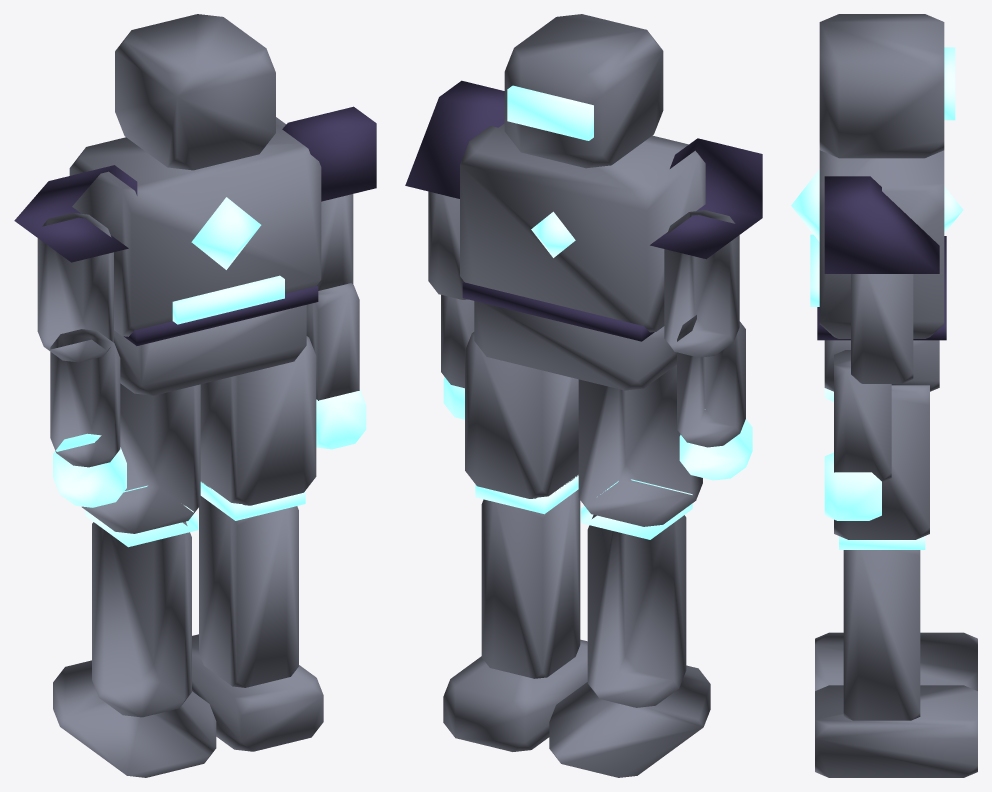
Rendered from CHR_Runner_Default.glb.
3 renders of one model, left to right at view 1: azimuth 30°, elevation 25°; view 2: azimuth 150°, elevation 25°; view 3: azimuth 270°, elevation 25°, orthographic. The views are drawn at different scales.
Visible parts, largest first — view 1: chest, head, CHR_Runner_Default_p3, CHR_Runner_Default_p2, CHR_Runner_Default_p4, CHR_Runner_Default_p5, CHR_Runner_Default_p1, pelvis, CHR_Runner_Default_p0, CHR_Runner_Default_p19, CHR_Runner_Default_p17, CHR_Runner_Default_p14 (+10 smaller); view 2: chest, head, CHR_Runner_Default_p3, CHR_Runner_Default_p2, CHR_Runner_Default_p5, CHR_Runner_Default_p4, CHR_Runner_Default_p1, pelvis, CHR_Runner_Default_p0, CHR_Runner_Default_p17, CHR_Runner_Default_p15, CHR_Runner_Default_p19 (+10 smaller); view 3: head, CHR_Runner_Default_p2, CHR_Runner_Default_p0, chest, CHR_Runner_Default_p14, CHR_Runner_Default_p4, CHR_Runner_Default_p16, CHR_Runner_Default_p18, CHR_Runner_Default_p1, CHR_Runner_Default_p20, pelvis, back_core (+5 smaller).
Part boxes in pixels (left/top/right/bottom): chest: left=69, top=117, right=321, bottom=336; head: left=115, top=14, right=275, bottom=170; CHR_Runner_Default_p3: left=92, top=521, right=191, bottom=717; CHR_Runner_Default_p2: left=199, top=496, right=298, bottom=687; CHR_Runner_Default_p4: left=200, top=336, right=316, bottom=505; CHR_Runner_Default_p5: left=82, top=383, right=200, bottom=533; CHR_Runner_Default_p1: left=53, top=660, right=216, bottom=777; pelvis: left=114, top=305, right=306, bottom=395; CHR_Runner_Default_p0: left=192, top=634, right=323, bottom=751; CHR_Runner_Default_p19: left=50, top=329, right=120, bottom=467; CHR_Runner_Default_p17: left=37, top=213, right=113, bottom=362; CHR_Runner_Default_p14: left=282, top=106, right=376, bottom=201; chest: left=460, top=123, right=705, bottom=332; head: left=504, top=14, right=663, bottom=168; CHR_Runner_Default_p3: left=587, top=515, right=686, bottom=707; CHR_Runner_Default_p2: left=481, top=489, right=580, bottom=678; CHR_Runner_Default_p5: left=578, top=365, right=702, bottom=526; CHR_Runner_Default_p4: left=465, top=332, right=578, bottom=498; CHR_Runner_Default_p1: left=549, top=665, right=710, bottom=777; pelvis: left=474, top=301, right=676, bottom=390; CHR_Runner_Default_p0: left=443, top=639, right=587, bottom=751; CHR_Runner_Default_p17: left=664, top=210, right=739, bottom=357; CHR_Runner_Default_p15: left=650, top=138, right=762, bottom=259; CHR_Runner_Default_p19: left=677, top=315, right=745, bottom=447; head: left=819, top=14, right=944, bottom=158; CHR_Runner_Default_p2: left=843, top=550, right=920, bottom=720; CHR_Runner_Default_p0: left=815, top=685, right=977, bottom=777; chest: left=819, top=150, right=944, bottom=338; CHR_Runner_Default_p14: left=824, top=176, right=939, bottom=273; CHR_Runner_Default_p4: left=834, top=385, right=929, bottom=539; CHR_Runner_Default_p16: left=851, top=274, right=913, bottom=383; CHR_Runner_Default_p18: left=834, top=350, right=891, bottom=481; CHR_Runner_Default_p1: left=815, top=632, right=977, bottom=690; CHR_Runner_Default_p20: left=824, top=452, right=881, bottom=520; pelvis: left=824, top=340, right=939, bottom=391; back_core: left=791, top=169, right=819, bottom=241.
Bounding box in the file's own units: 0.74 × 1.6 × 0.39.
